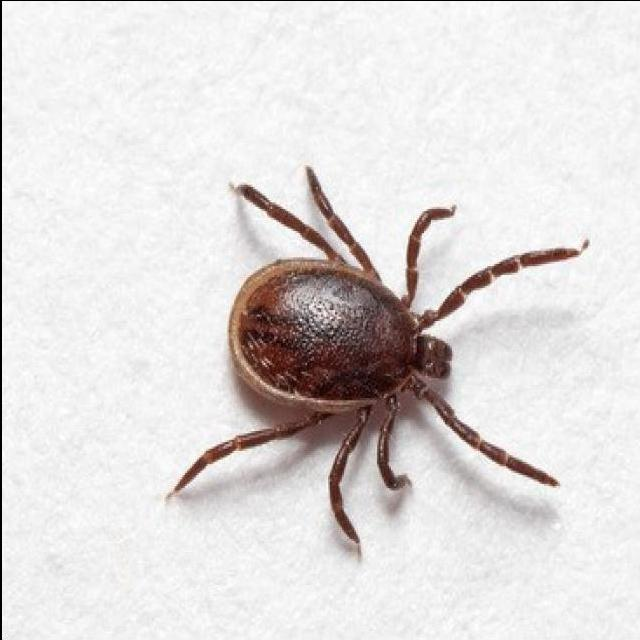Ixodes Ricinus-M: (167, 169, 584, 554)
